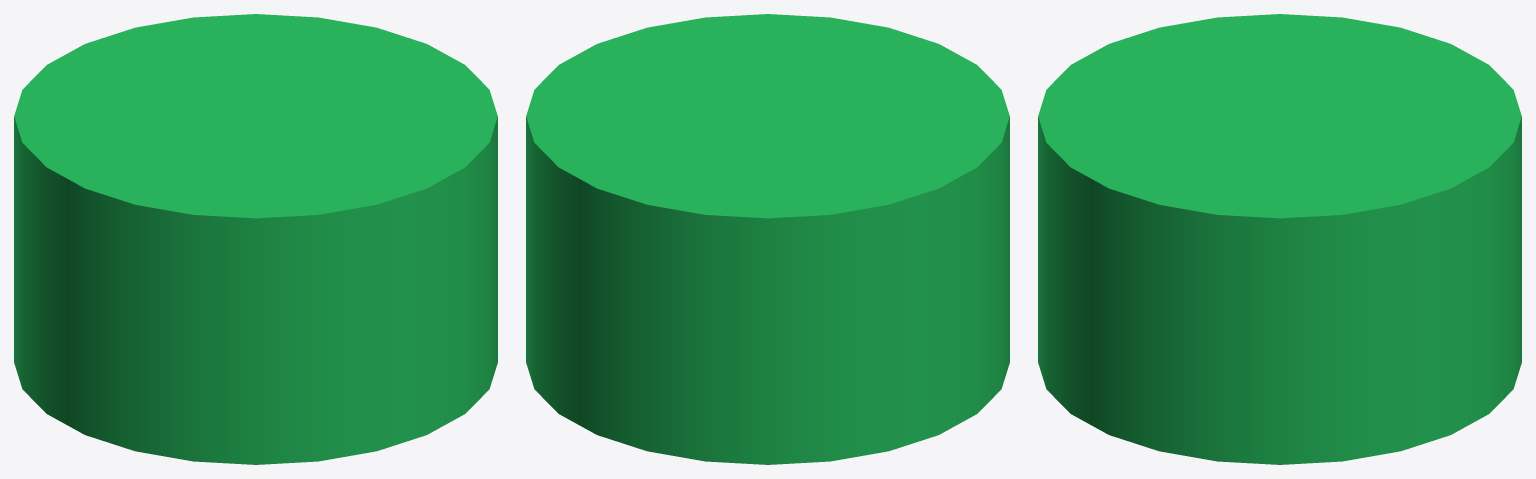
3 renders of one model, left to right at view 1: azimuth 30°, elevation 25°; view 2: azimuth 150°, elevation 25°; view 3: azimuth 270°, elevation 25°, orthographic.
Size of the model in its own units: 80 by 45 by 80.
